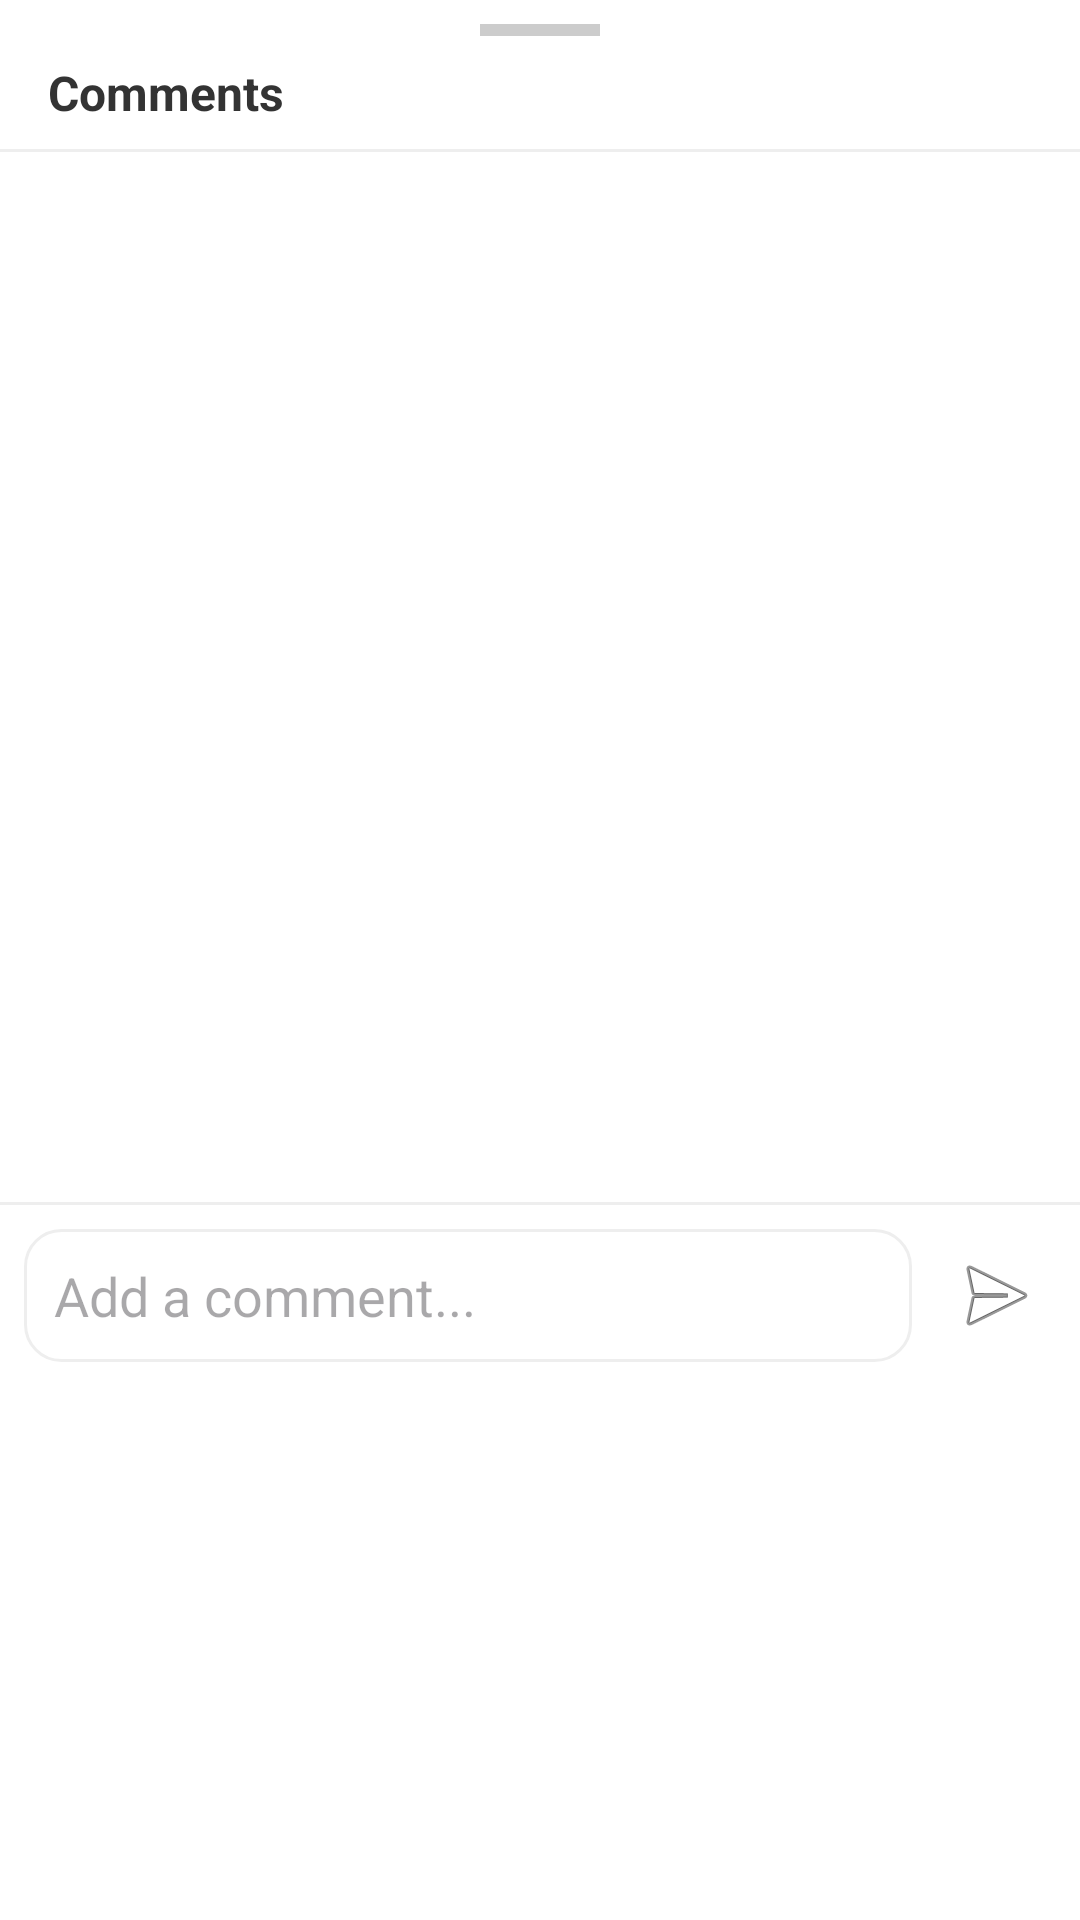

Icons on this 1080x1920 Android screen, each with its box as (x1, y1, x2, y2):
send: (966, 1265, 1028, 1326)
